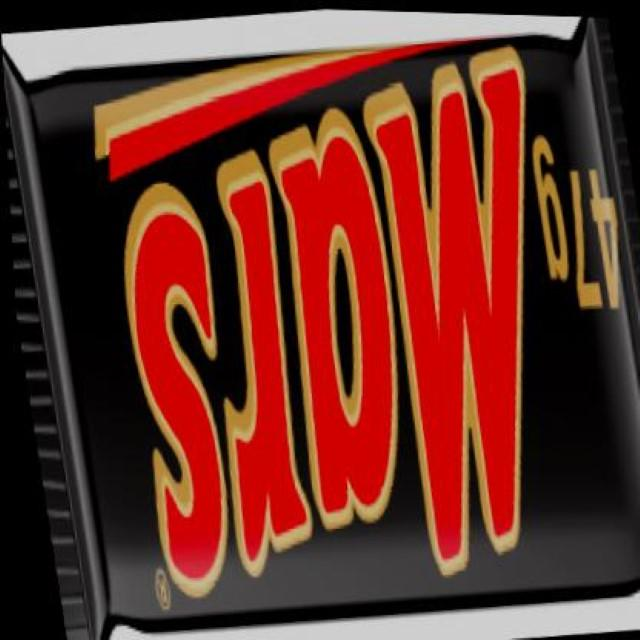mars_chocolate: (36, 90, 640, 585)
